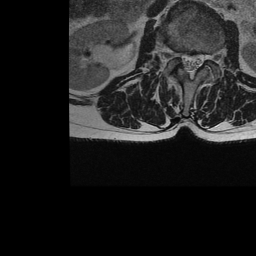CCS_normal: (187, 44, 196, 86)
LFS_normal: (204, 42, 213, 69)
LLS_normal: (196, 44, 204, 74)
RFS_stenosis: (173, 41, 180, 66)
RLS_normal: (179, 44, 187, 73)
